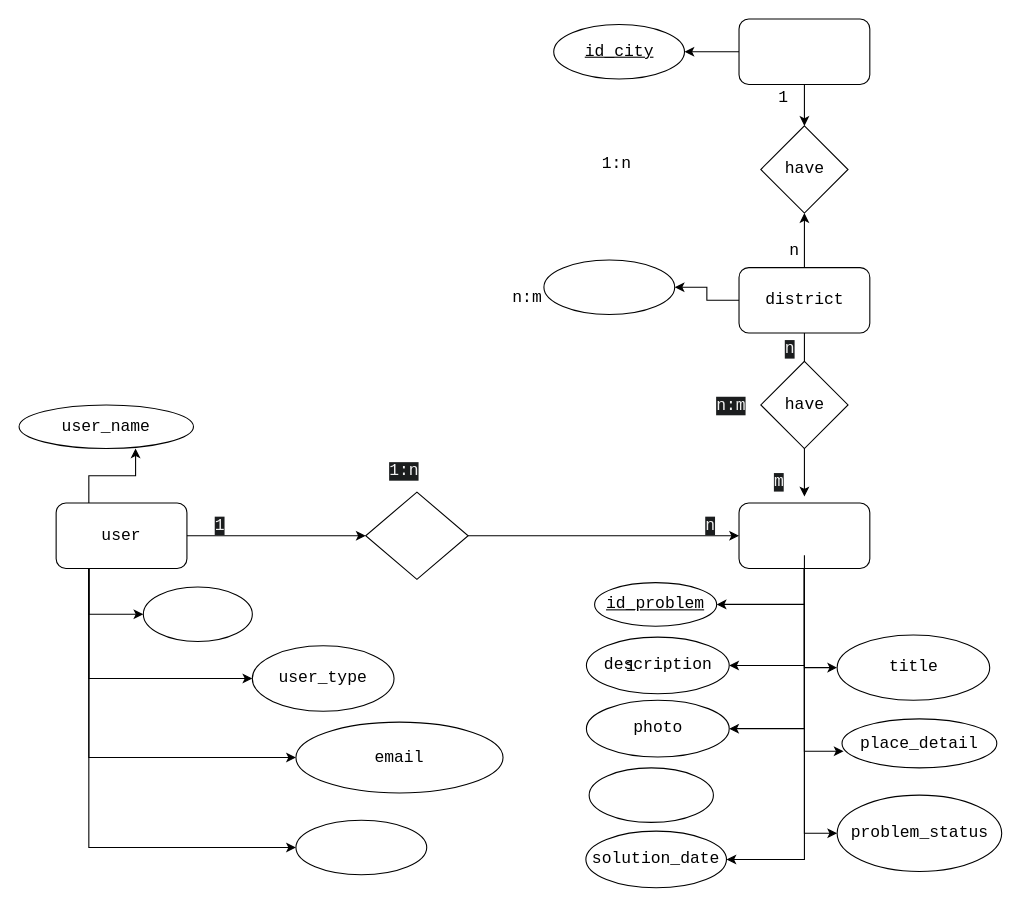
Image size: 1021x907. Some labels were removed from this diagram. Each missing label, with the centre of its shape:
city: (x=804, y=51)
create_date: (x=650, y=794)
id_district: (x=609, y=286)
id_user: (x=361, y=847)
pass: (x=197, y=613)
problem: (x=804, y=535)
register: (x=416, y=535)
